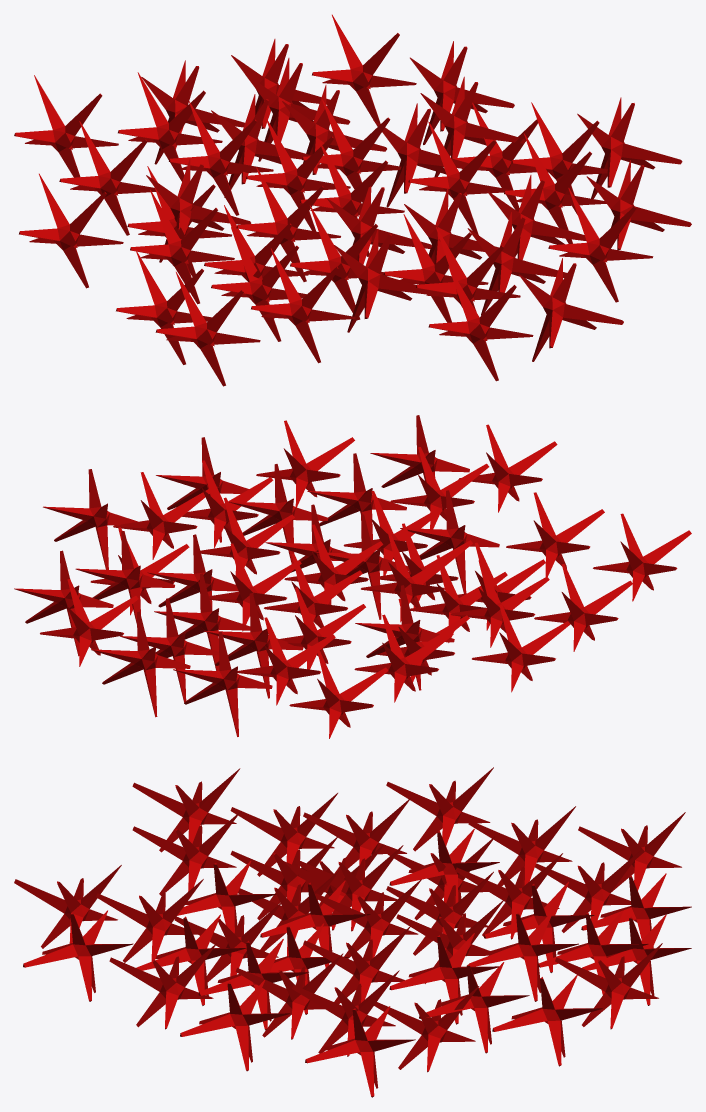
The model's file is caltrops_red.obj.
3 renders of one model, top to bottom at view 1: azimuth 30°, elevation 25°; view 2: azimuth 150°, elevation 25°; view 3: azimuth 270°, elevation 25°, orthographic. The views are drawn at different scales.
Visible parts, largest first — view 1: Icosphere.022_Icosphere.029, Icosphere.004_Icosphere.011, Icosphere.028_Icosphere.035, Icosphere.024_Icosphere.031, Icosphere.006_Icosphere.013, Icosphere.005_Icosphere.012, Icosphere.019_Icosphere.026, Icosphere.013_Icosphere.020, Icosphere.033_Icosphere.040, Icosphere.002_Icosphere.009, Icosphere.036_Icosphere.043, Icosphere.039_Icosphere.046 (+31 smaller); view 2: Icosphere.042_Icosphere.049, Icosphere.041_Icosphere.048, Icosphere.010_Icosphere.017, Icosphere.019_Icosphere.026, Icosphere.006_Icosphere.013, Icosphere.040_Icosphere.047, Icosphere.005_Icosphere.012, Icosphere.017_Icosphere.024, Icosphere.033_Icosphere.040, Icosphere.036_Icosphere.043, Icosphere.021_Icosphere.028, Icosphere.013_Icosphere.020 (+31 smaller); view 3: Icosphere.033_Icosphere.040, Icosphere.024_Icosphere.031, Icosphere.005_Icosphere.012, Icosphere.006_Icosphere.013, Icosphere.029_Icosphere.036, Icosphere.018_Icosphere.025, Icosphere.036_Icosphere.043, Icosphere.019_Icosphere.026, Icosphere.028_Icosphere.035, Icosphere.010_Icosphere.017, Icosphere.030_Icosphere.037, Icosphere.017_Icosphere.024 (+31 smaller).
Boxes of the visible parts, x1,y1,x2,y2 form: Icosphere.022_Icosphere.029: [519, 258, 623, 361]; Icosphere.004_Icosphere.011: [334, 229, 439, 332]; Icosphere.028_Icosphere.035: [428, 266, 533, 381]; Icosphere.024_Icosphere.031: [548, 188, 653, 302]; Icosphere.006_Icosphere.013: [19, 173, 123, 288]; Icosphere.005_Icosphere.012: [251, 248, 355, 363]; Icosphere.019_Icosphere.026: [155, 272, 260, 386]; Icosphere.013_Icosphere.020: [577, 97, 682, 198]; Icosphere.033_Icosphere.040: [312, 14, 416, 126]; Icosphere.002_Icosphere.009: [169, 101, 273, 215]; Icosphere.036_Icosphere.043: [59, 121, 155, 235]; Icosphere.039_Icosphere.046: [130, 189, 234, 304]; Icosphere.042_Icosphere.049: [91, 611, 190, 717]; Icosphere.041_Icosphere.048: [173, 631, 272, 736]; Icosphere.010_Icosphere.017: [237, 617, 335, 705]; Icosphere.019_Icosphere.026: [593, 513, 691, 601]; Icosphere.006_Icosphere.013: [472, 604, 570, 692]; Icosphere.040_Icosphere.047: [289, 650, 388, 738]; Icosphere.005_Icosphere.012: [506, 492, 604, 576]; Icosphere.017_Icosphere.024: [534, 564, 632, 651]; Icosphere.033_Icosphere.040: [40, 579, 138, 666]; Icosphere.036_Icosphere.043: [354, 614, 453, 702]; Icosphere.021_Icosphere.028: [113, 472, 209, 559]; Icosphere.013_Icosphere.020: [43, 469, 137, 569]; Icosphere.033_Icosphere.040: [555, 943, 662, 1029]; Icosphere.024_Icosphere.031: [109, 943, 216, 1029]; Icosphere.005_Icosphere.012: [132, 812, 240, 895]; Icosphere.006_Icosphere.013: [386, 767, 493, 851]; Icosphere.029_Icosphere.036: [96, 879, 203, 962]; Icosphere.018_Icosphere.025: [374, 986, 479, 1072]; Icosphere.036_Icosphere.043: [468, 806, 575, 886]; Icosphere.019_Icosphere.026: [132, 768, 240, 852]; Icosphere.028_Icosphere.035: [14, 865, 121, 948]; Icosphere.010_Icosphere.017: [535, 849, 642, 932]; Icosphere.030_Icosphere.037: [303, 926, 410, 1003]; Icosphere.017_Icosphere.024: [230, 793, 337, 876].
Bounding box in the file's own units: 50.08 × 9.37 × 52.79.
